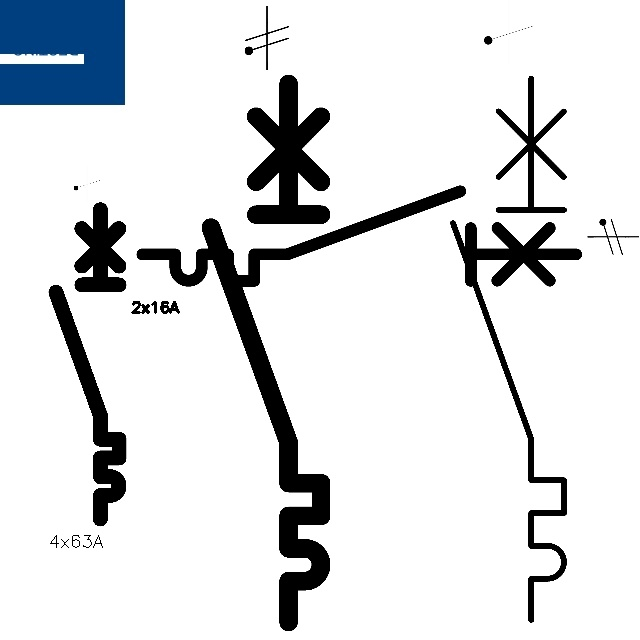interruptor_termomagnetico: (439, 64, 578, 634), (197, 70, 335, 636), (131, 180, 587, 292), (48, 201, 127, 526)
